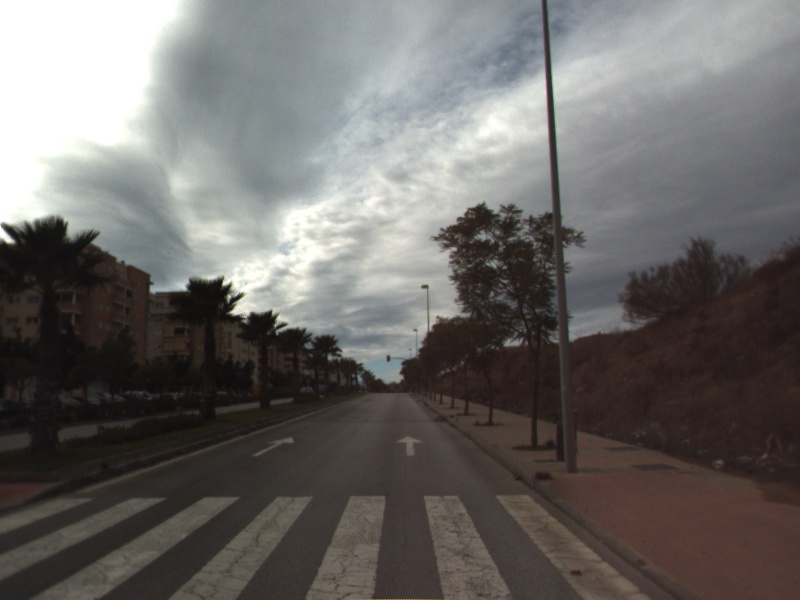STRAIGHT: (249, 435, 296, 458), (394, 434, 426, 458)
